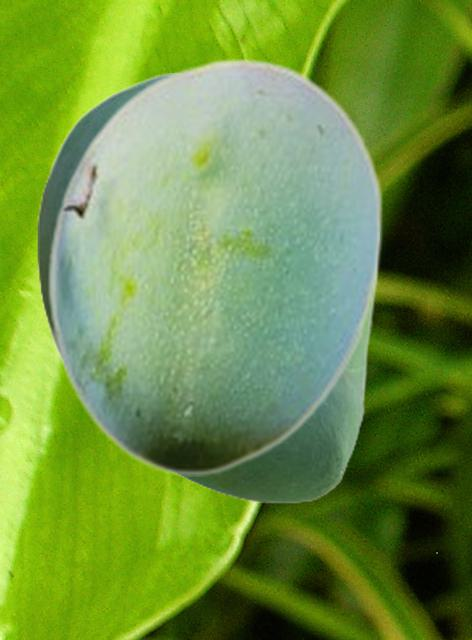green_mango: (36, 73, 378, 503), (46, 57, 383, 475)
